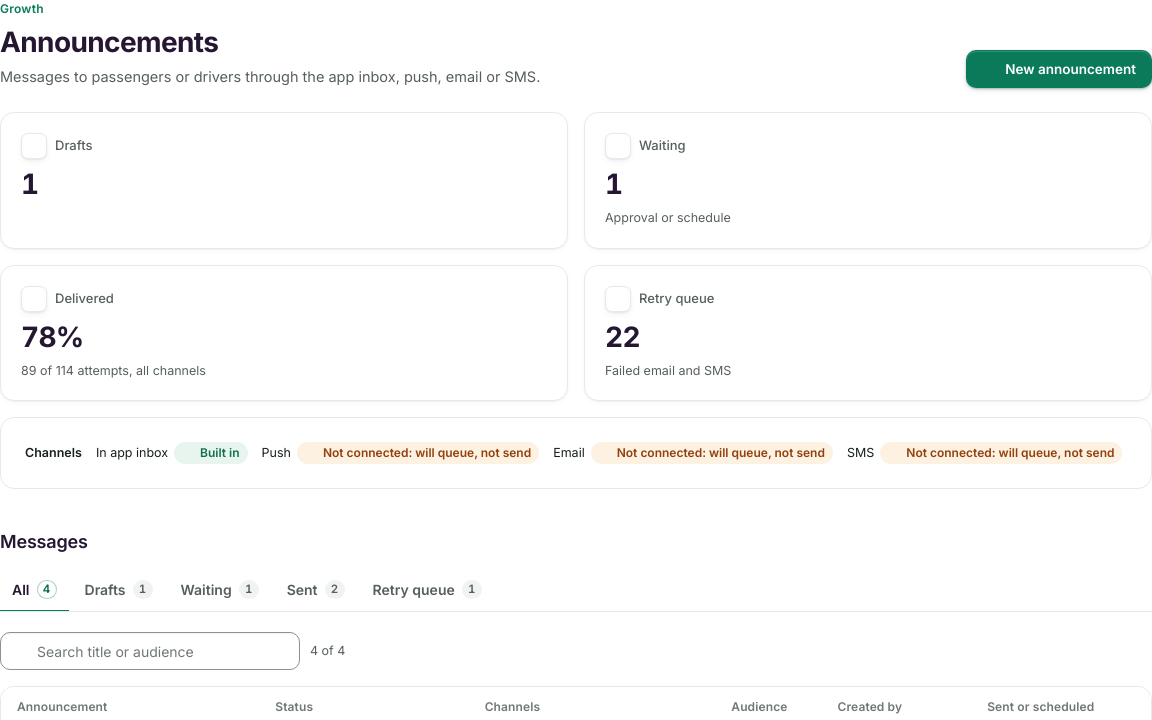
flows › retrying SMS stays failed while the provider is not connected
This screenshot has width=1152, height=720.
What coordinates should you click on to do the following:
click the tab "Retry queue 1"
I would click on:
 (427, 591)
Its box is x1=361 y1=569 x2=494 y2=612.
(page scrolled)
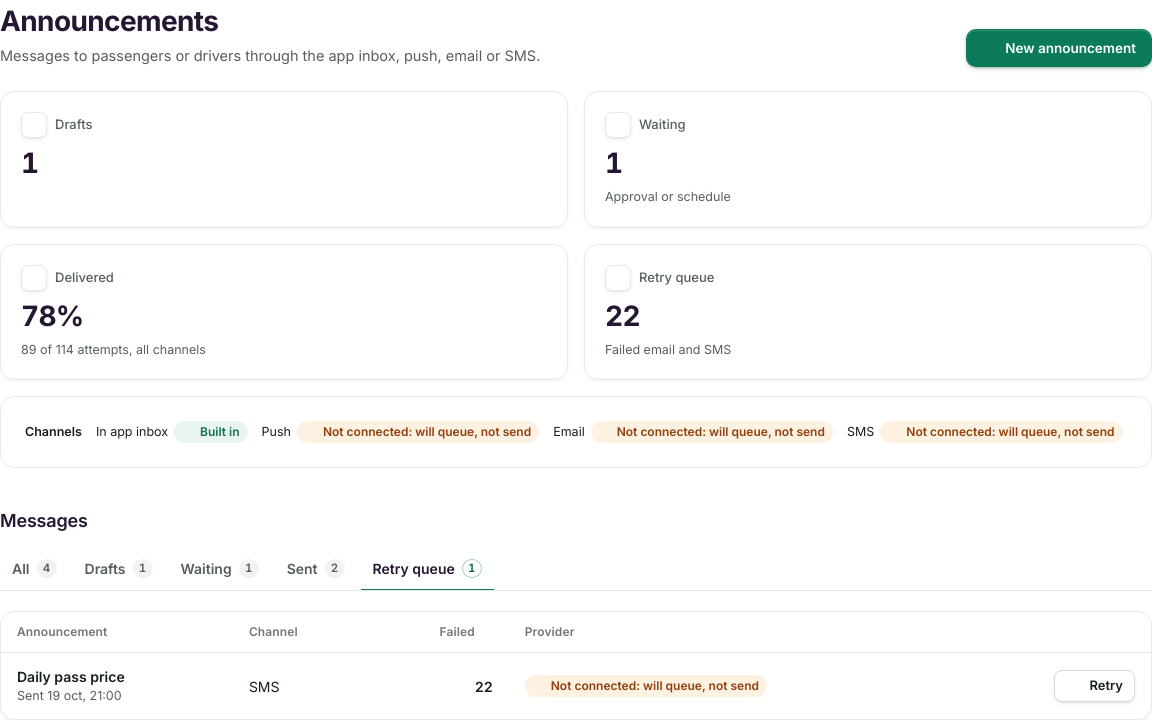
What coordinates should you click on to do the following:
click the button "Retry"
I would click on:
 (1095, 686)
Its box is x1=1054 y1=670 x2=1135 y2=702.
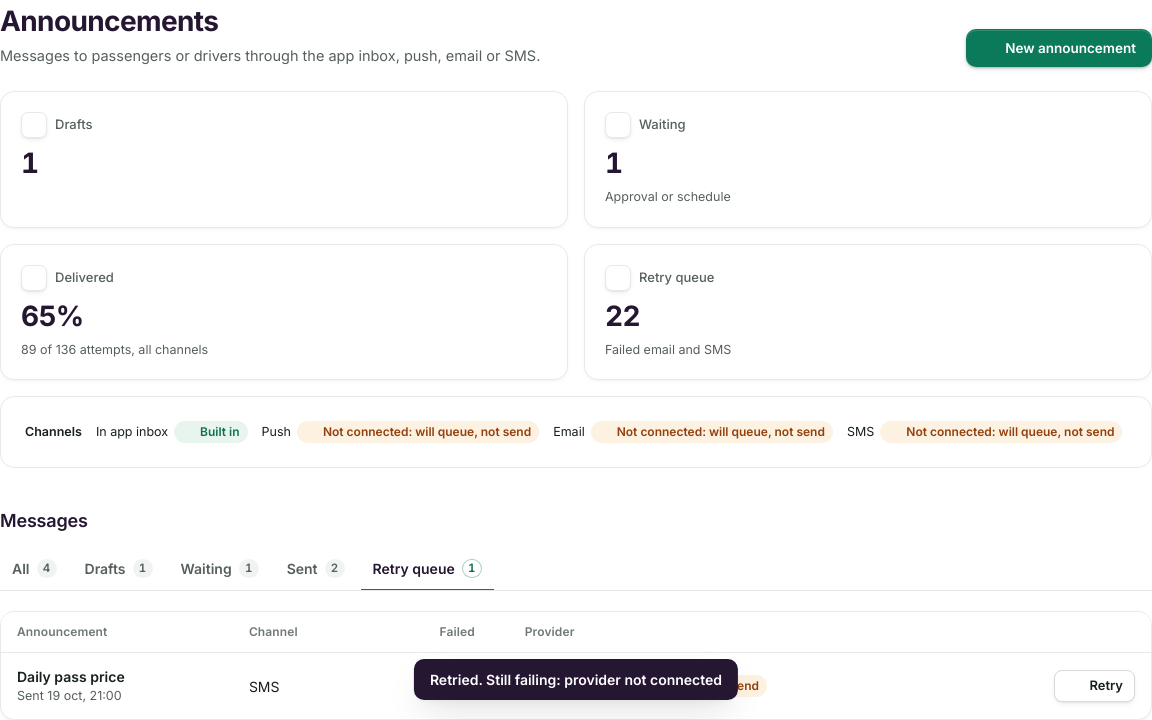
What coordinates should you click on to do the following:
click the text "Daily pass price"
I would click on:
 (71, 677)
Its box is x1=17 y1=668 x2=125 y2=685.
(page scrolled)
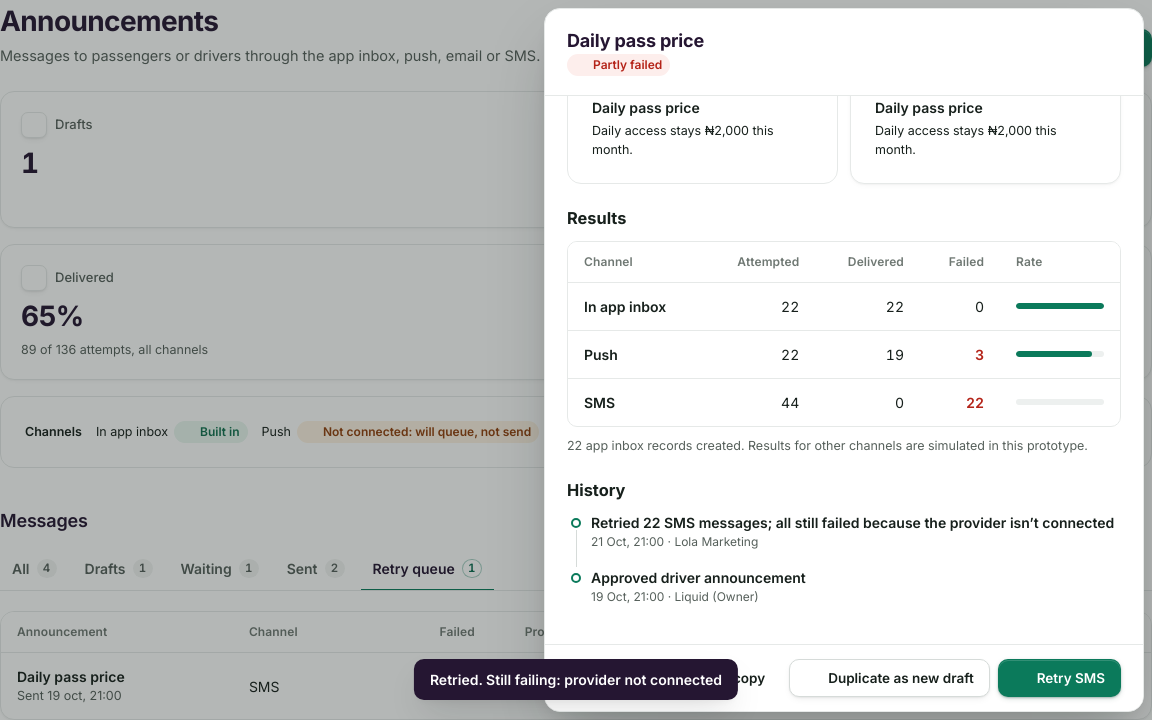
Expected: the text "all still failed because the provider isn’t connected" is shown, x1=591 y1=514 x2=1114 y2=531
